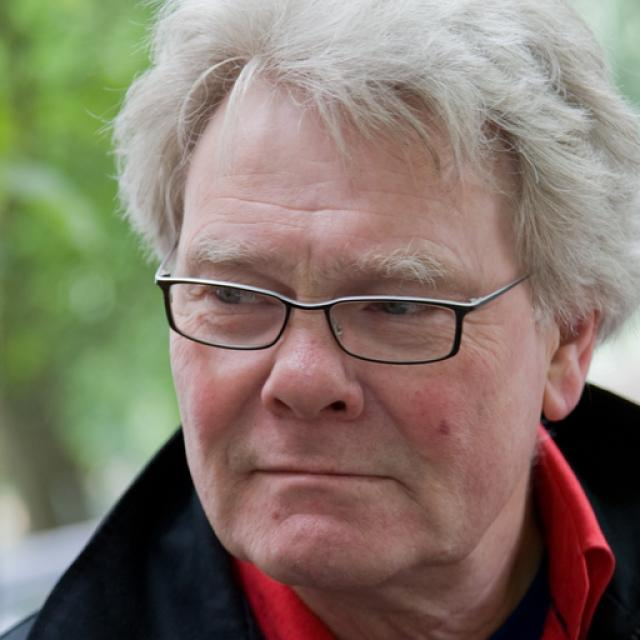Wrinkle: (210, 189, 380, 220), (186, 211, 317, 251), (367, 184, 460, 212)
